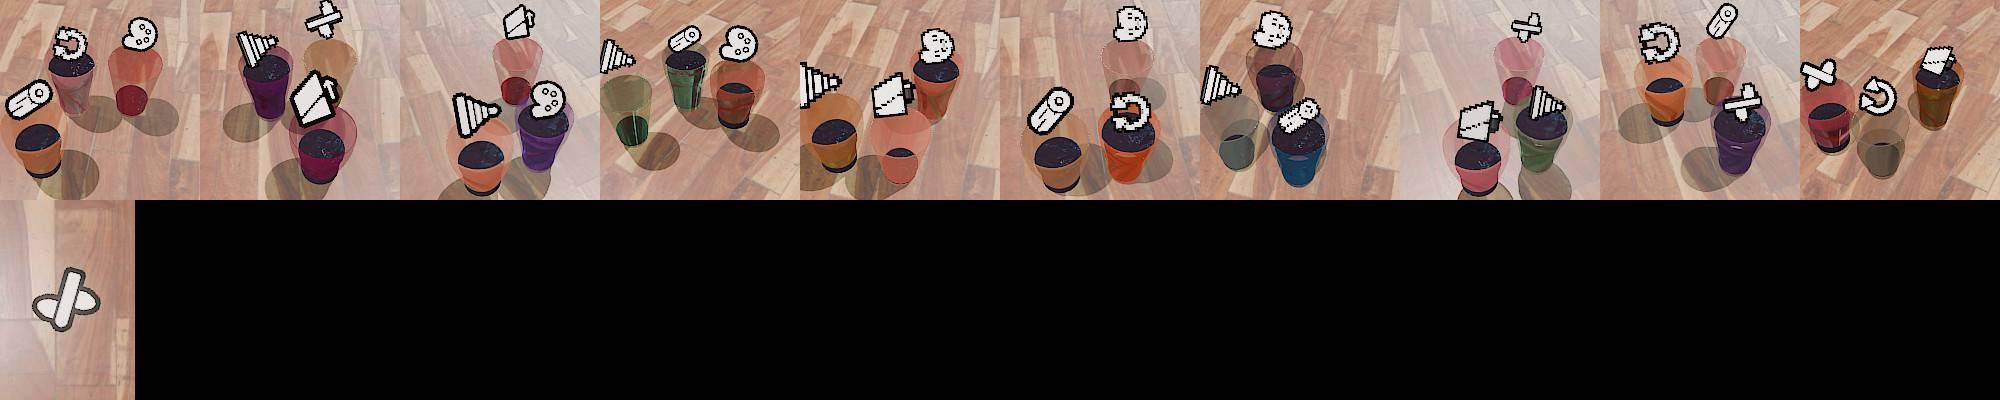icon: (30, 266, 101, 332), (289, 69, 342, 127), (1027, 85, 1075, 136), (452, 91, 502, 139), (870, 72, 916, 118), (799, 61, 843, 109), (5, 78, 54, 121), (1456, 98, 1503, 141), (1637, 20, 1681, 64), (1719, 81, 1764, 123), (1108, 90, 1152, 132), (237, 29, 279, 72), (1277, 96, 1323, 135), (1201, 64, 1243, 106), (302, 0, 344, 40), (1252, 9, 1293, 49), (1527, 83, 1568, 122), (529, 79, 567, 119), (1859, 75, 1897, 114), (51, 26, 90, 63), (718, 25, 758, 61), (1113, 4, 1149, 43), (600, 38, 637, 75), (918, 27, 954, 64), (1800, 57, 1839, 90), (1918, 45, 1957, 78), (122, 17, 158, 52), (502, 3, 536, 40), (1705, 2, 1738, 40), (667, 23, 703, 55), (1510, 12, 1543, 45)
